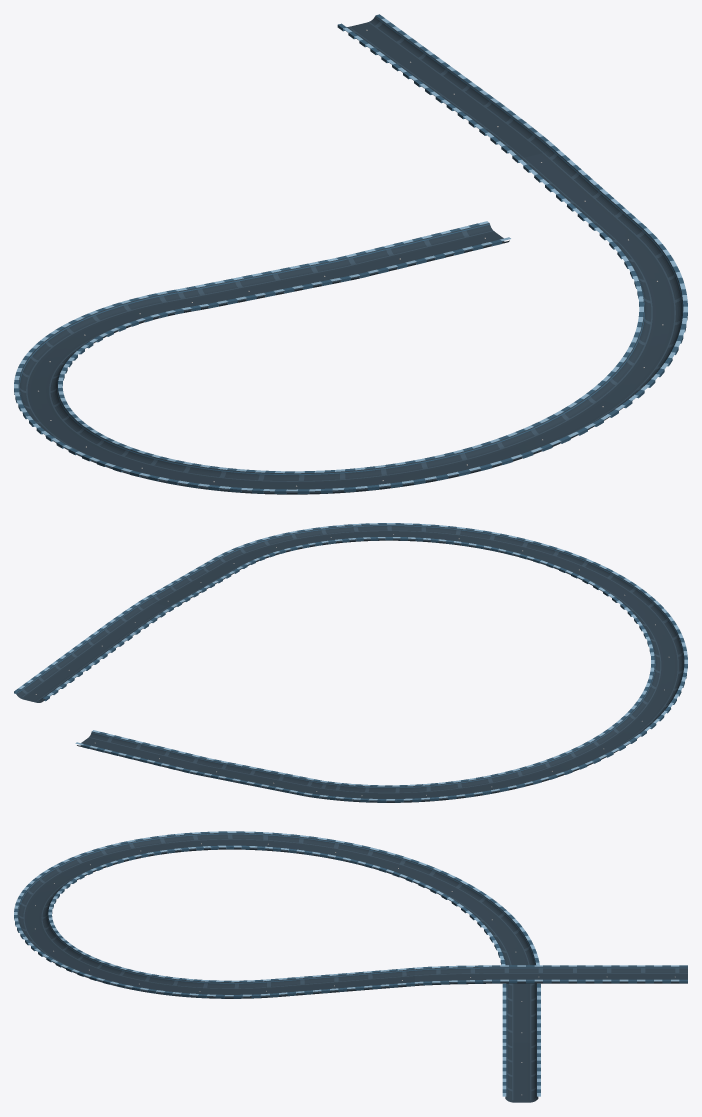
Rendered from blue_90_R_T3.fbx.
The picture shows the model from 3 angles, top to bottom: view 1: azimuth 30°, elevation 25°; view 2: azimuth 150°, elevation 25°; view 3: azimuth 270°, elevation 25°; orthographic projection. The views are drawn at different scales.
Visible parts, largest first — view 1: blue_90_R_T3; view 2: blue_90_R_T3; view 3: blue_90_R_T3.
Boxes of the visible parts, left/top/right/bottom form: blue_90_R_T3: left=14, top=14, right=687, bottom=494; blue_90_R_T3: left=14, top=523, right=687, bottom=802; blue_90_R_T3: left=14, top=831, right=687, bottom=1102.
Bounding box in the file's own units: 15969 × 3806 × 19992.
